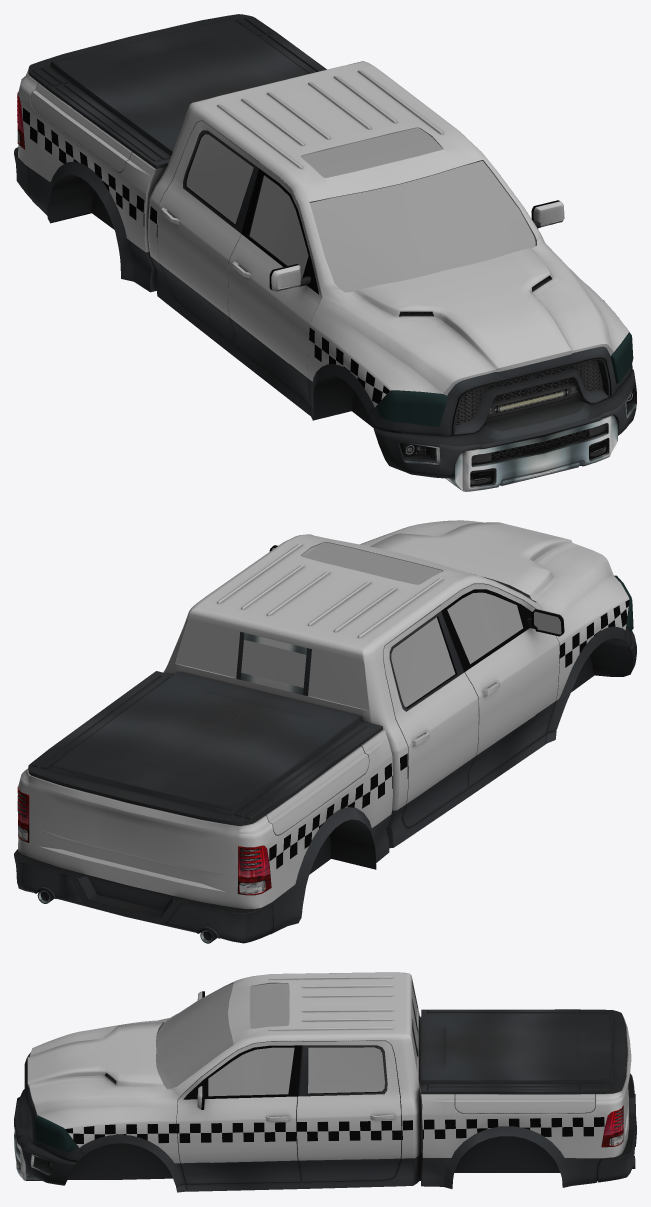
File: DodgeRamRebel_Exterior.FBX
3 renders of one model, top to bottom at view 1: azimuth 30°, elevation 25°; view 2: azimuth 150°, elevation 25°; view 3: azimuth 270°, elevation 25°, orthographic. The views are drawn at different scales.
Visible parts, largest first — view 1: Body, FrontDoor_Right, RearDoor_Right, Body_Checkers, FrontDoor_Left; view 2: Body, FrontDoor_Right, RearDoor_Right, Body_Checkers, RearLight, StopLight; view 3: Body, FrontDoor_Left, RearDoor_Left, Body_Checkers, FrontDoor_Checkers, RearDoor_Checkers, RearLight.
Boxes of the visible parts, left/top/right/bottom form: Body: left=14, top=14, right=636, bottom=491; FrontDoor_Right: left=228, top=162, right=322, bottom=405; RearDoor_Right: left=158, top=120, right=259, bottom=345; Body_Checkers: left=23, top=107, right=618, bottom=403; FrontDoor_Left: left=531, top=200, right=564, bottom=237; Body: left=14, top=520, right=636, bottom=943; FrontDoor_Right: left=440, top=584, right=564, bottom=787; RearDoor_Right: left=383, top=605, right=478, bottom=827; Body_Checkers: left=269, top=599, right=629, bottom=869; RearLight: left=17, top=787, right=271, bottom=895; StopLight: left=17, top=789, right=264, bottom=872; Body: left=14, top=972, right=636, bottom=1192; FrontDoor_Left: left=176, top=1041, right=301, bottom=1183; RearDoor_Left: left=297, top=1040, right=401, bottom=1181; Body_Checkers: left=65, top=1117, right=604, bottom=1144; FrontDoor_Checkers: left=176, top=1122, right=296, bottom=1142; RearDoor_Checkers: left=297, top=1121, right=401, bottom=1141; RearLight: left=602, top=1105, right=623, bottom=1147.
Bounding box in the file's own units: 95.08 × 64.05 × 236.
